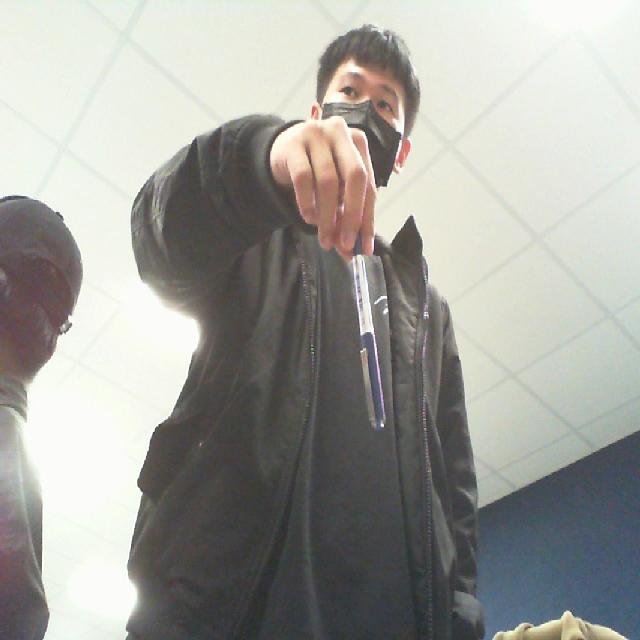Pen: (341, 230, 398, 461)
